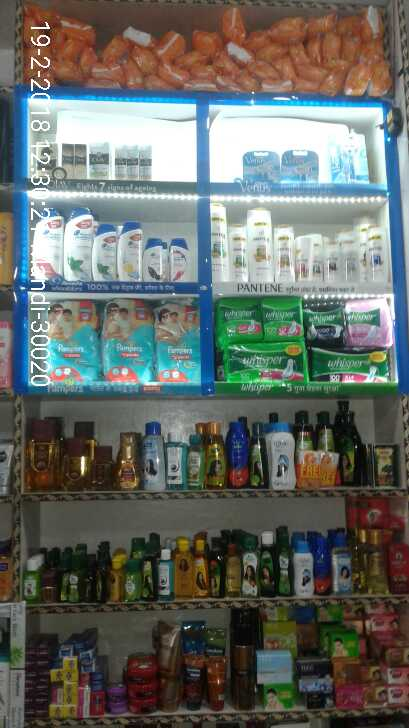venus: (335, 133, 369, 180), (241, 152, 281, 182), (281, 152, 321, 181)
